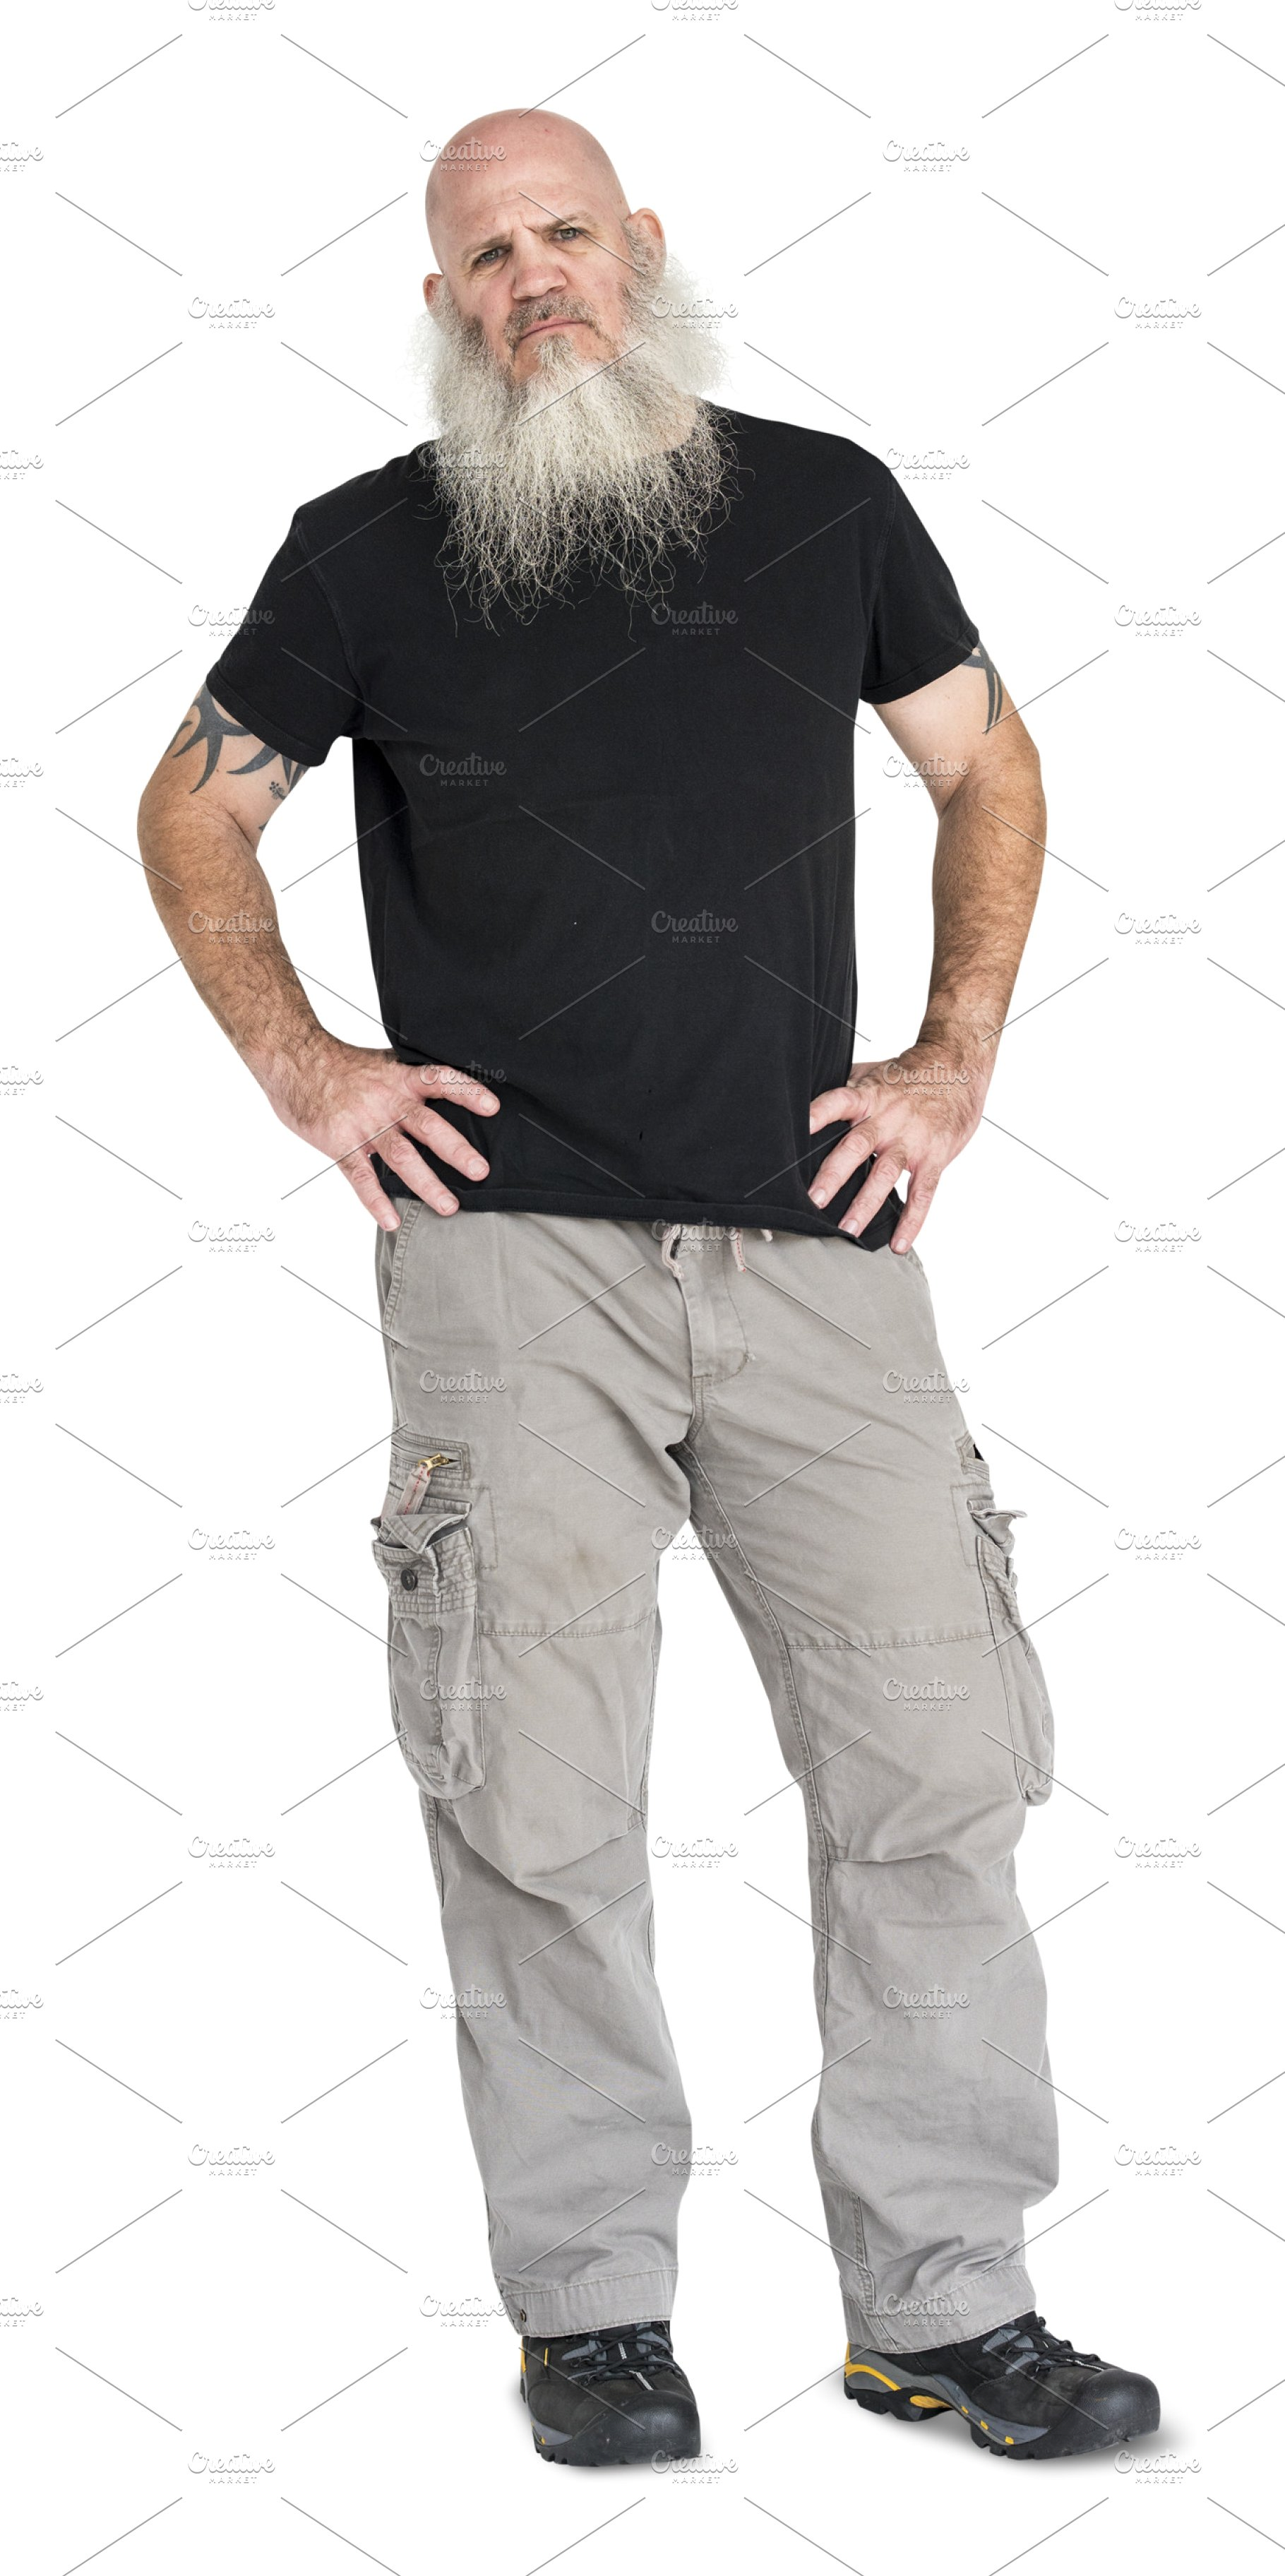LeftElbow: (932, 629, 1050, 895)
LeftShoulder: (818, 343, 984, 743)
LeftWrist: (818, 966, 976, 1244)
RightElbow: (127, 647, 291, 979)
RightShoulder: (284, 368, 399, 770)
RightWrist: (330, 987, 463, 1260)
